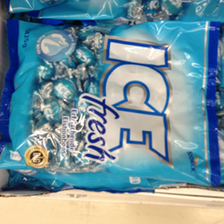candy: (6, 18, 216, 186)
